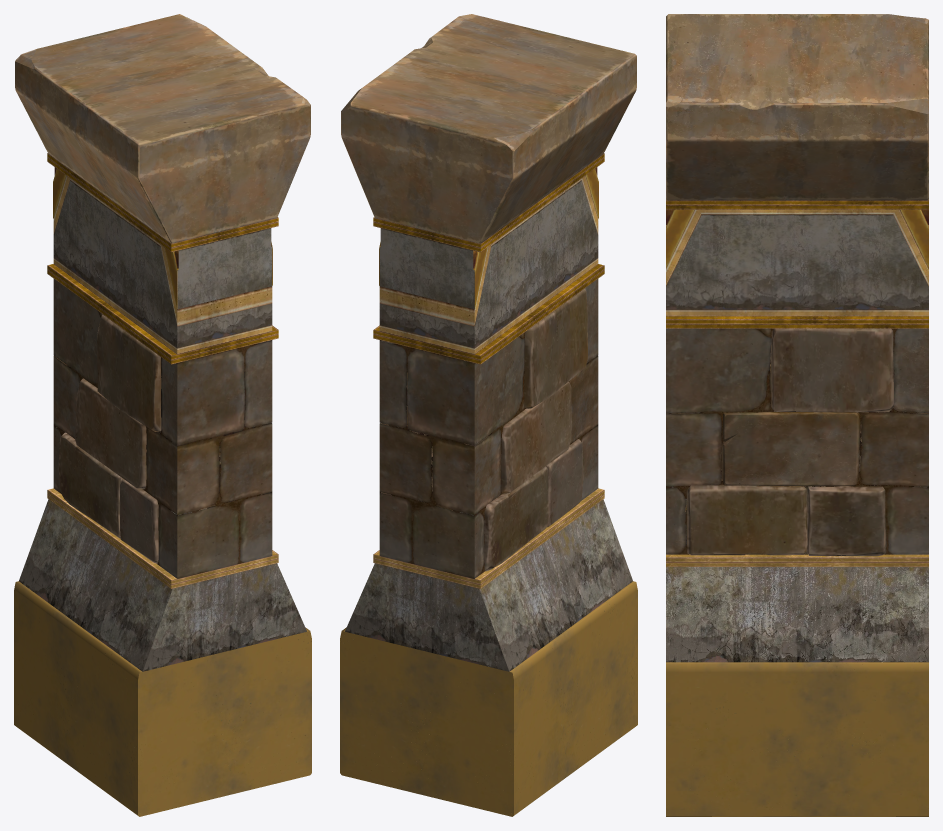
3 renders of one model, left to right at view 1: azimuth 30°, elevation 25°; view 2: azimuth 150°, elevation 25°; view 3: azimuth 270°, elevation 25°, orthographic. The views are drawn at different scales.
Parts seen in each view (by area): view 1: SM_DK_10m_Wall_01_LOD0; view 2: SM_DK_10m_Wall_01_LOD0; view 3: SM_DK_10m_Wall_01_LOD0.
Boxes of the visible parts, box(x1,y1,x2,y2) form: SM_DK_10m_Wall_01_LOD0: box(14, 14, 311, 816); SM_DK_10m_Wall_01_LOD0: box(340, 14, 637, 816); SM_DK_10m_Wall_01_LOD0: box(666, 14, 928, 816).
Bounding box in the file's own units: 3.24 × 12 × 4.
Materials: 6 (6 with a texture image).
